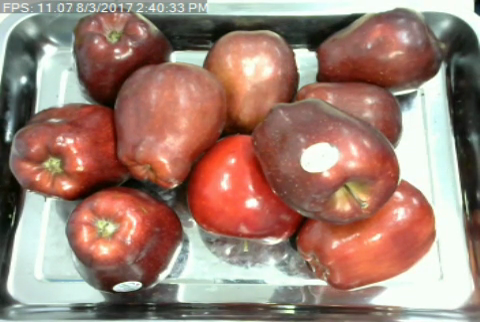Apple: (251, 96, 404, 227), (292, 175, 438, 292), (108, 61, 230, 191), (61, 184, 187, 298), (183, 132, 307, 245), (8, 100, 132, 202), (314, 6, 444, 98), (199, 26, 300, 132), (71, 7, 175, 105)
